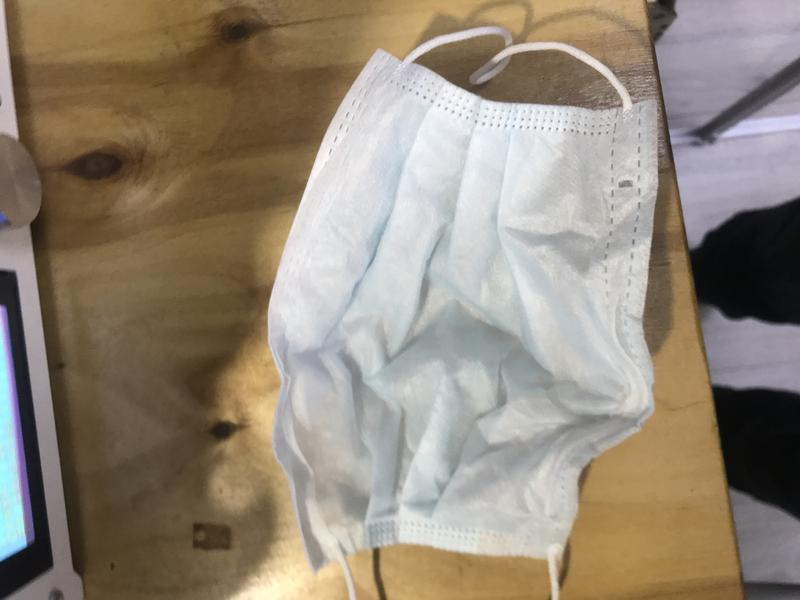medical_mask: (266, 24, 661, 600)
